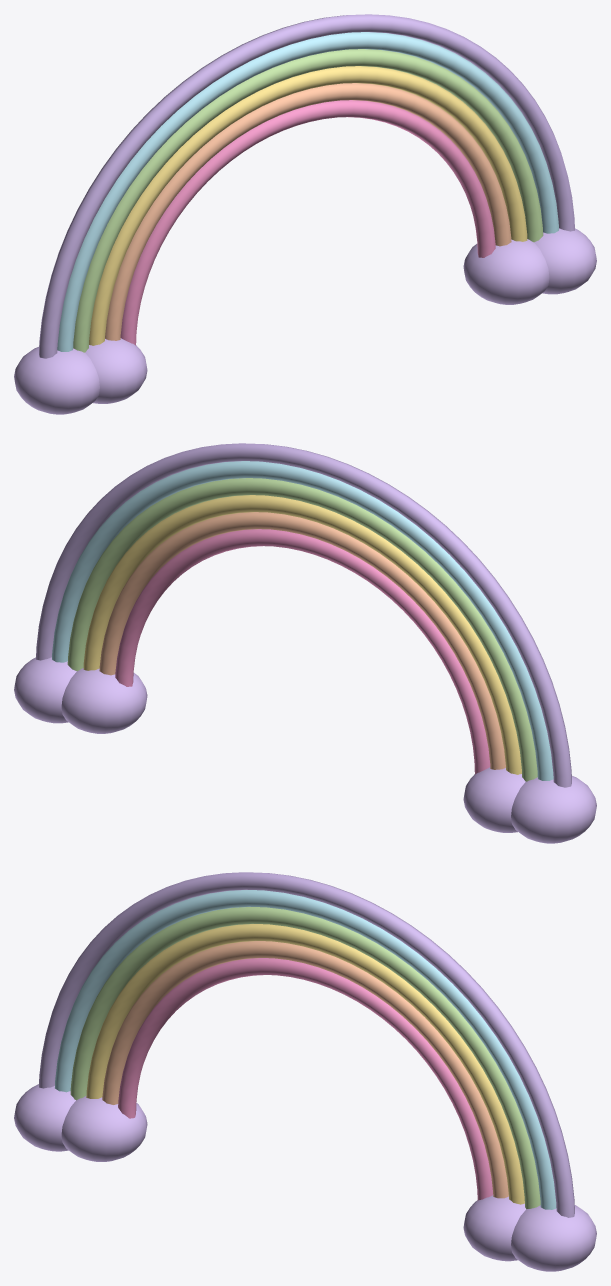
File: st_candy_gate.glb
3 views of the same model, one above another, from view 1: azimuth 30°, elevation 25°; view 2: azimuth 150°, elevation 25°; view 3: azimuth 330°, elevation 25° (orthographic).
Visible parts, largest first — view 1: Rainbow_Gate; view 2: Rainbow_Gate; view 3: Rainbow_Gate.
Part boxes in pixels (x1,y1,x2,y2): Rainbow_Gate: [14, 14, 596, 414]; Rainbow_Gate: [14, 443, 596, 843]; Rainbow_Gate: [14, 872, 596, 1271].
Bounding box in the file's own units: 3.96 × 2.17 × 0.56.
